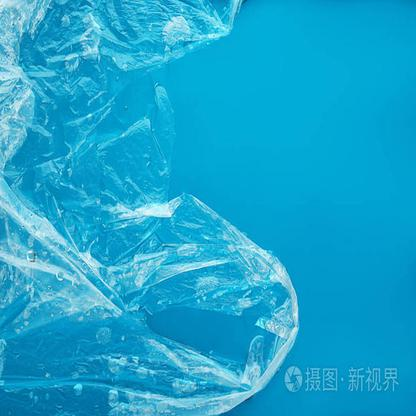plastic bag: (1, 1, 298, 416)
